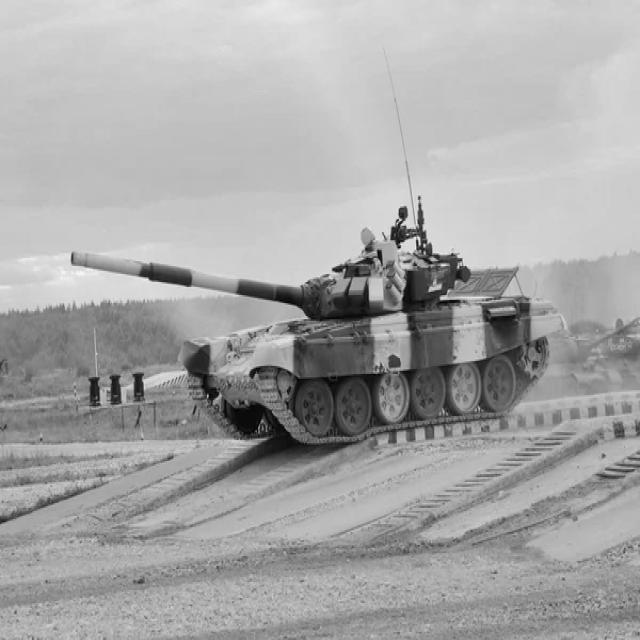Tank: (60, 182, 564, 450)
